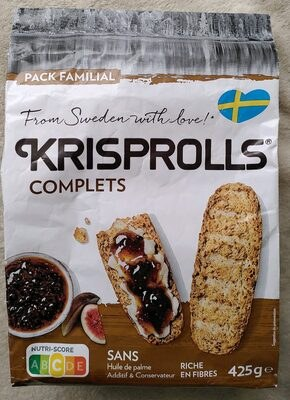Krisprolls complets: (14, 20, 276, 380)
